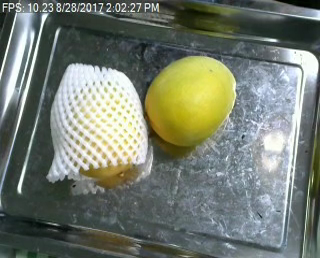Mango: (143, 54, 237, 147)
